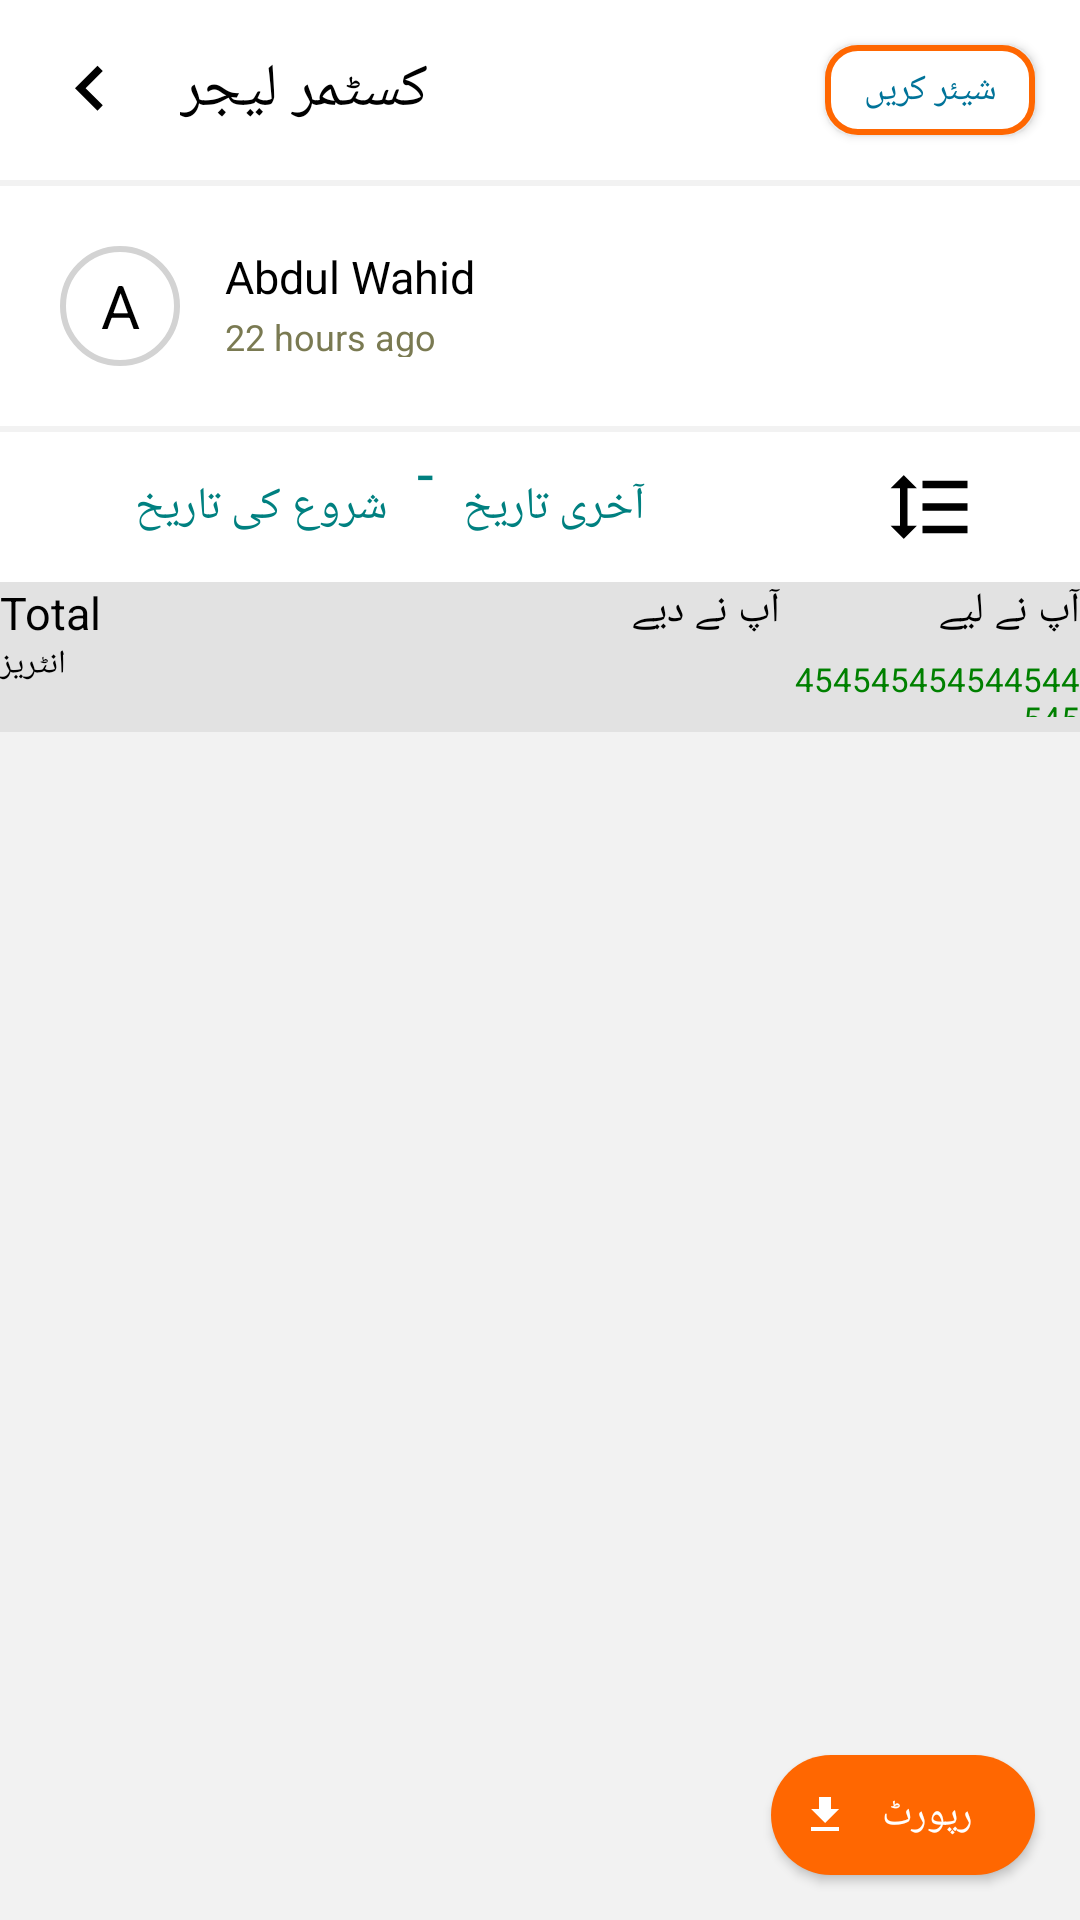

Where icons sit on this 1080*1920 app screen, as bbox=(x1, y1, x2, y2):
arrow back: bbox=(75, 66, 103, 111)
format line spacing: bbox=(891, 475, 968, 539)
